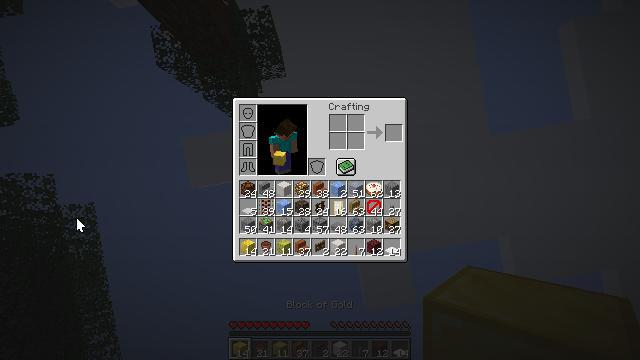cursor: (76, 217, 86, 233)
